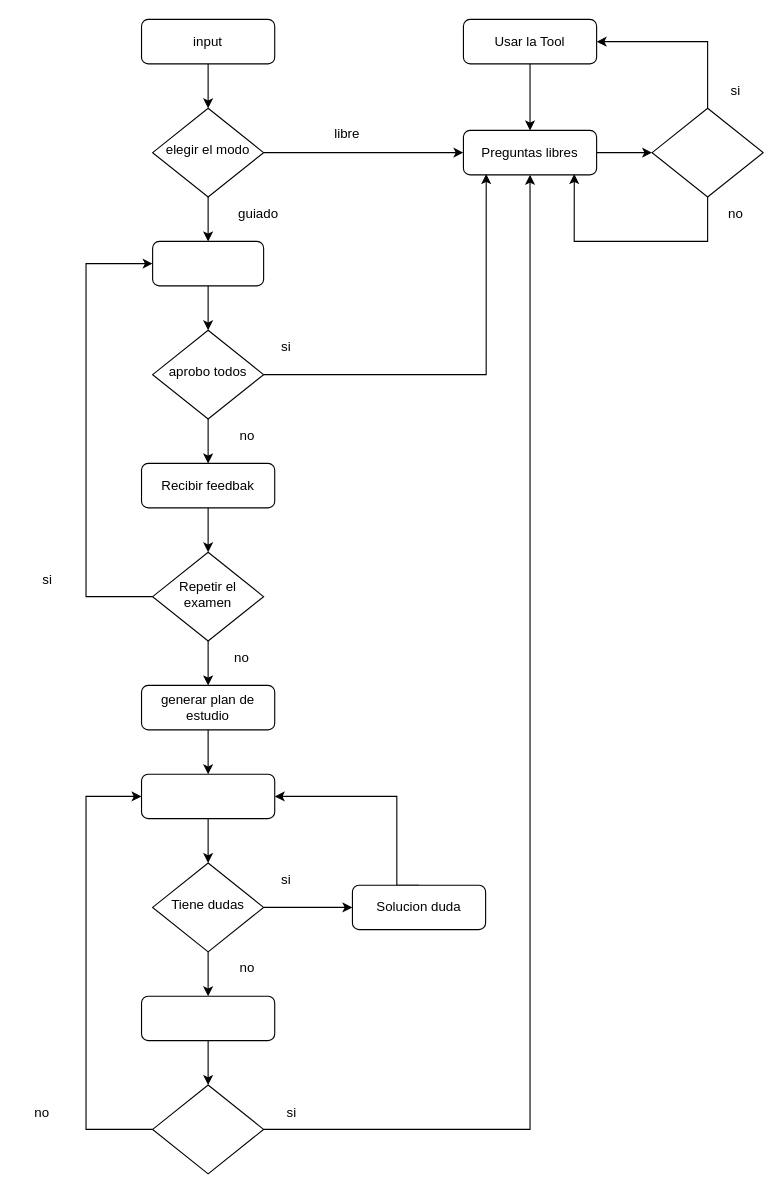
This 783x1193 diagram has some shape labels left out. Each missing label, with the box of its shape:
Aprueba: (152, 1084, 264, 1174)
Examen repaso: (140, 995, 275, 1041)
examenes por niveles: (152, 240, 264, 286)
Explicacion tema a tema: (140, 773, 275, 819)
necesita Tools: (651, 107, 763, 197)
